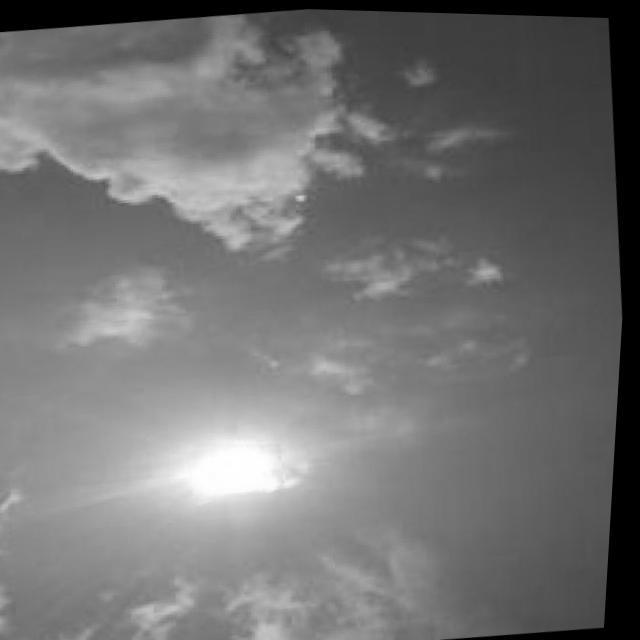sun: (197, 440, 288, 493)
